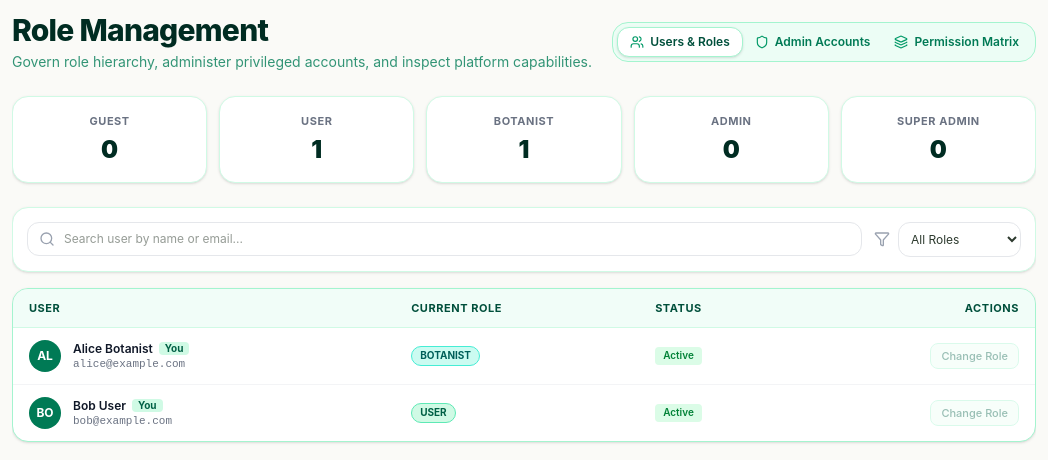
Scenario: Frontend System Feature Tests (Part S1) › RoleManagementPage › renders tabs: Users & Roles, Admin Accounts, Permission Matrix without crashing
The image size is (1048, 460).
Expected: the heading "Role Management" is shown, [12, 12, 268, 48]
Expected: the button "Users & Roles" is shown, [617, 27, 743, 57]
// Switch to Admin Accounts tab
Click the button "Admin Accounts" at (813, 42), box [743, 27, 882, 57]
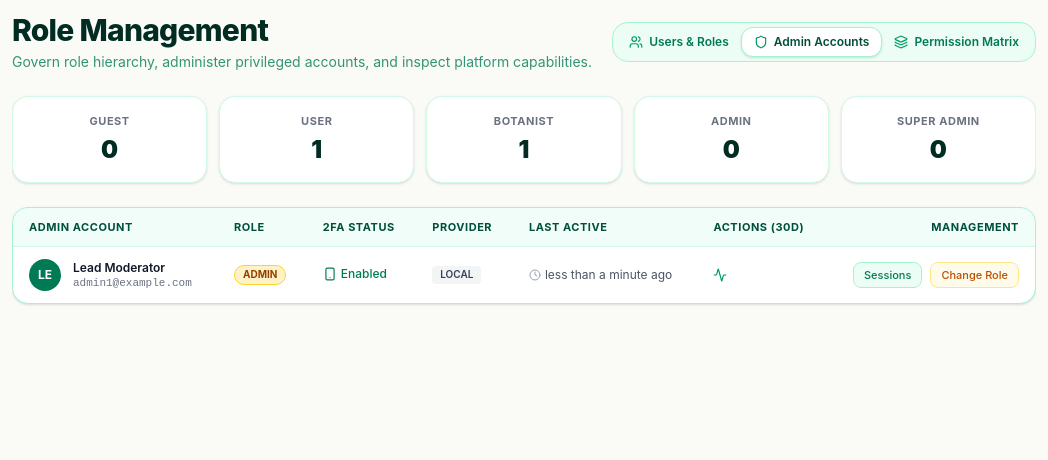
Now the text "Lead Moderator" is shown, box [73, 260, 165, 275]
Now the text "admin1@example.com" is shown, box [73, 276, 192, 290]
// Switch to Permission Matrix tab
Click the button "Permission Matrix" at (957, 42), box [882, 27, 1031, 57]
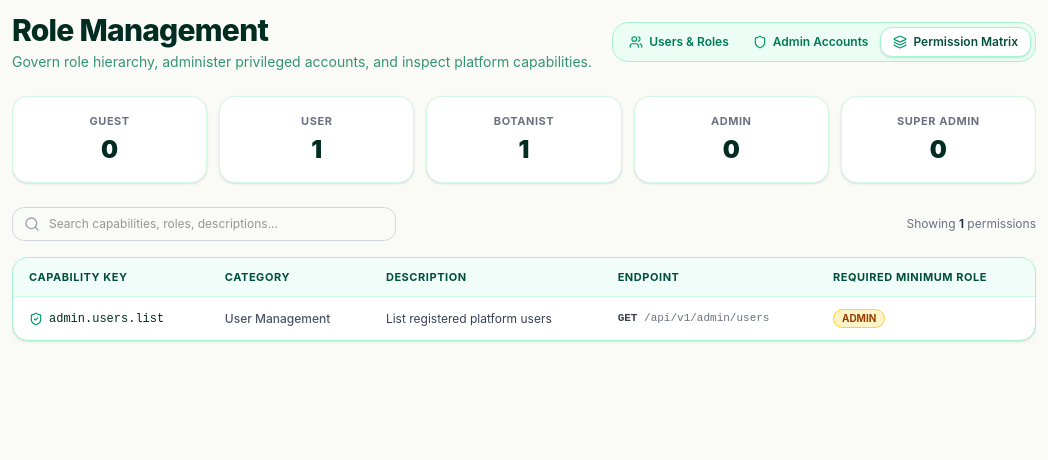
Now the text "admin.users.list" is shown, box [29, 312, 164, 326]
Now the text "List registered platform users" is shown, box [370, 297, 602, 340]
